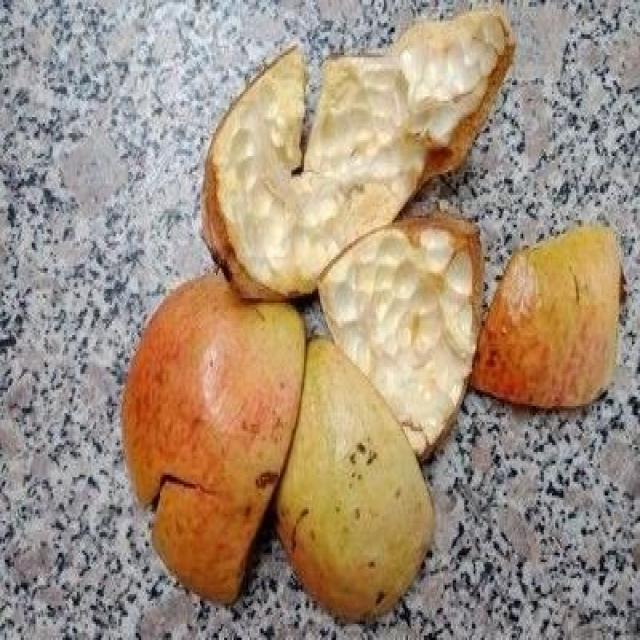Wet Waste: (120, 5, 627, 624)
